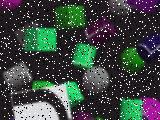Right: (11, 84, 72, 120)
